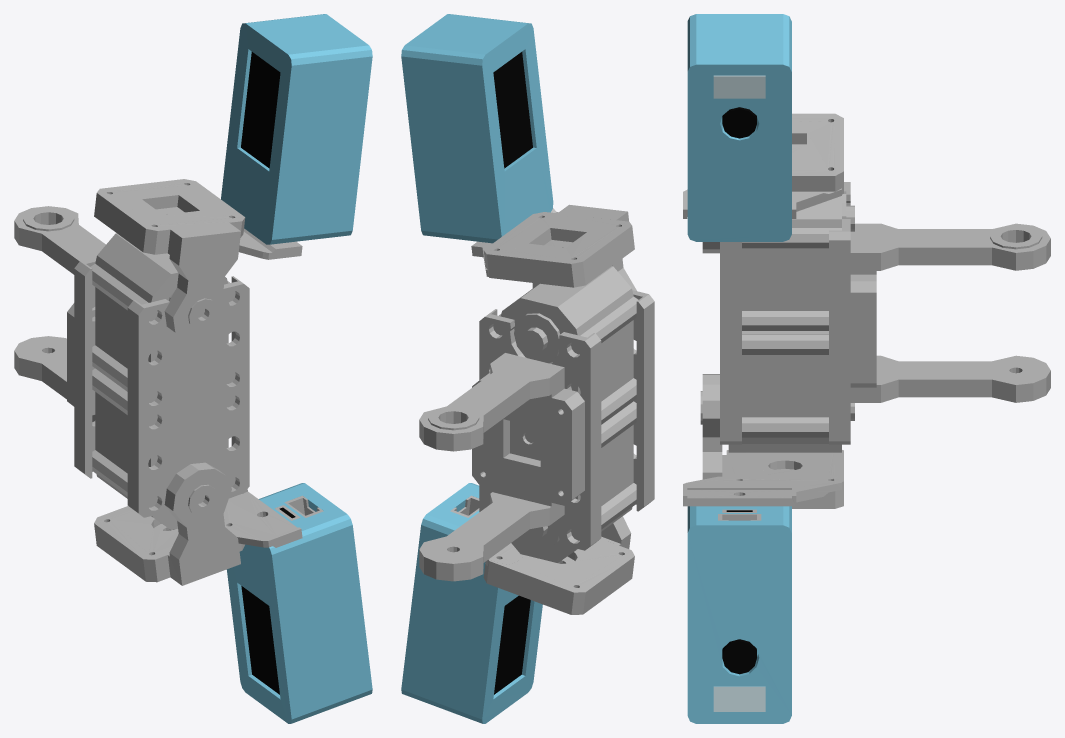
The model's file is head-neck-p_mesh.glb.
The picture shows the model from 3 angles, left to right: view 1: azimuth 30°, elevation 25°; view 2: azimuth 150°, elevation 25°; view 3: azimuth 270°, elevation 25°; orthographic projection.
Visible parts, largest first — view 1: base2_M1KShape13, base2_M1KShape20, base2_M1KShape4, base2_M1KShape5, base2_M1KShape7, base2_M1KShape9, base2_M1KShape8, base2_M1KShape6, base2_M1KShape3, base2_M1KShape10, base2_M1KShape2, base2_M1KShape14 (+5 smaller); view 2: base2_M1KShape13, base2_M1KShape20, base2_M1KShape5, base2_M1KShape0, base2_M1KShape9, base2_M1KShape3, base2_M1KShape2, base2_M1KShape10, base2_M1KShape1, base2_M1KShape6, base2_M1KShape4, base2_M1KShape14 (+3 smaller); view 3: base2_M1KShape13, base2_M1KShape20, base2_M1KShape6, base2_M1KShape5, base2_M1KShape2, base2_M1KShape1, base2_M1KShape3, base2_M1KShape4, base2_M1KShape12, base2_M1KShape9, base2_M1KShape10, base2_M1KShape0 (+6 smaller).
Part boxes in pixels (box(x1,y1,x2,y2)): base2_M1KShape13: box(221, 14, 372, 244); base2_M1KShape20: box(226, 483, 372, 723); base2_M1KShape4: box(127, 276, 249, 517); base2_M1KShape5: box(90, 233, 235, 402); base2_M1KShape7: box(164, 223, 240, 345); base2_M1KShape9: box(94, 179, 245, 254); base2_M1KShape8: box(164, 462, 240, 585); base2_M1KShape6: box(92, 368, 235, 530); base2_M1KShape3: box(74, 257, 96, 478); base2_M1KShape10: box(94, 506, 244, 582); base2_M1KShape2: box(14, 206, 105, 274); base2_M1KShape14: box(241, 52, 280, 168); base2_M1KShape13: box(401, 14, 553, 243); base2_M1KShape20: box(401, 483, 542, 723); base2_M1KShape5: box(493, 266, 638, 424); base2_M1KShape0: box(472, 373, 584, 505); base2_M1KShape9: box(483, 212, 634, 287); base2_M1KShape3: box(479, 309, 601, 550); base2_M1KShape2: box(419, 353, 564, 451); base2_M1KShape10: box(483, 539, 634, 614); base2_M1KShape1: box(419, 488, 564, 581); base2_M1KShape6: box(511, 401, 636, 562); base2_M1KShape4: box(532, 283, 654, 511); base2_M1KShape14: box(493, 52, 532, 168); base2_M1KShape13: box(687, 14, 791, 241); base2_M1KShape20: box(687, 506, 791, 723); base2_M1KShape6: box(728, 331, 854, 452); base2_M1KShape5: box(742, 191, 854, 330); base2_M1KShape2: box(850, 223, 1050, 274); base2_M1KShape1: box(850, 355, 1050, 402); base2_M1KShape3: box(829, 182, 850, 444); base2_M1KShape4: box(720, 242, 741, 444); base2_M1KShape12: box(683, 474, 841, 506); base2_M1KShape9: box(792, 113, 843, 194); base2_M1KShape10: box(726, 450, 843, 508); base2_M1KShape0: box(850, 274, 876, 387).
Bounding box in the file's own units: 0.0591 × 0.1725 × 0.0845.
